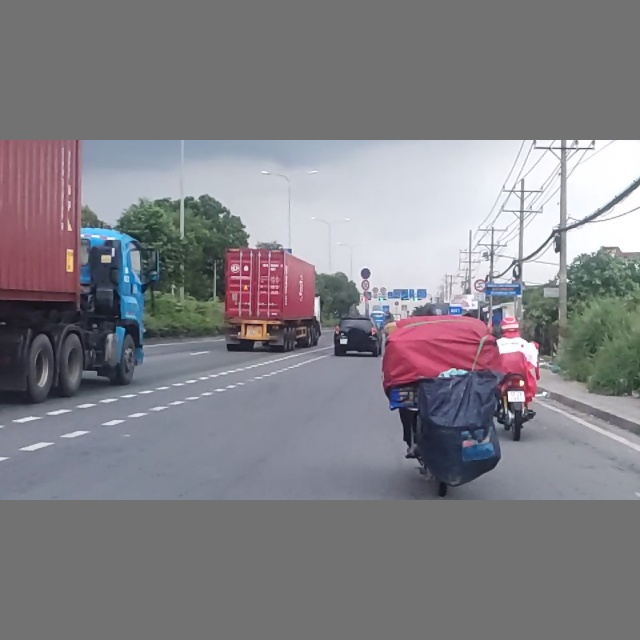P.107: (475, 279, 486, 293)
P.130: (361, 268, 371, 279)
